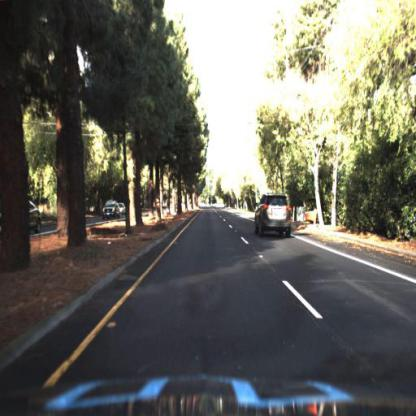car: (255, 193, 291, 237), (16, 200, 44, 238), (102, 196, 123, 225)
